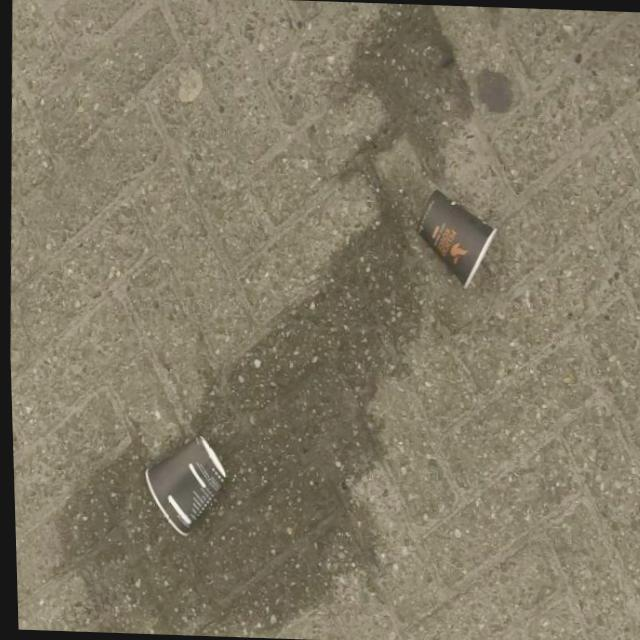Cup: (134, 431, 228, 541), (408, 186, 500, 291)
